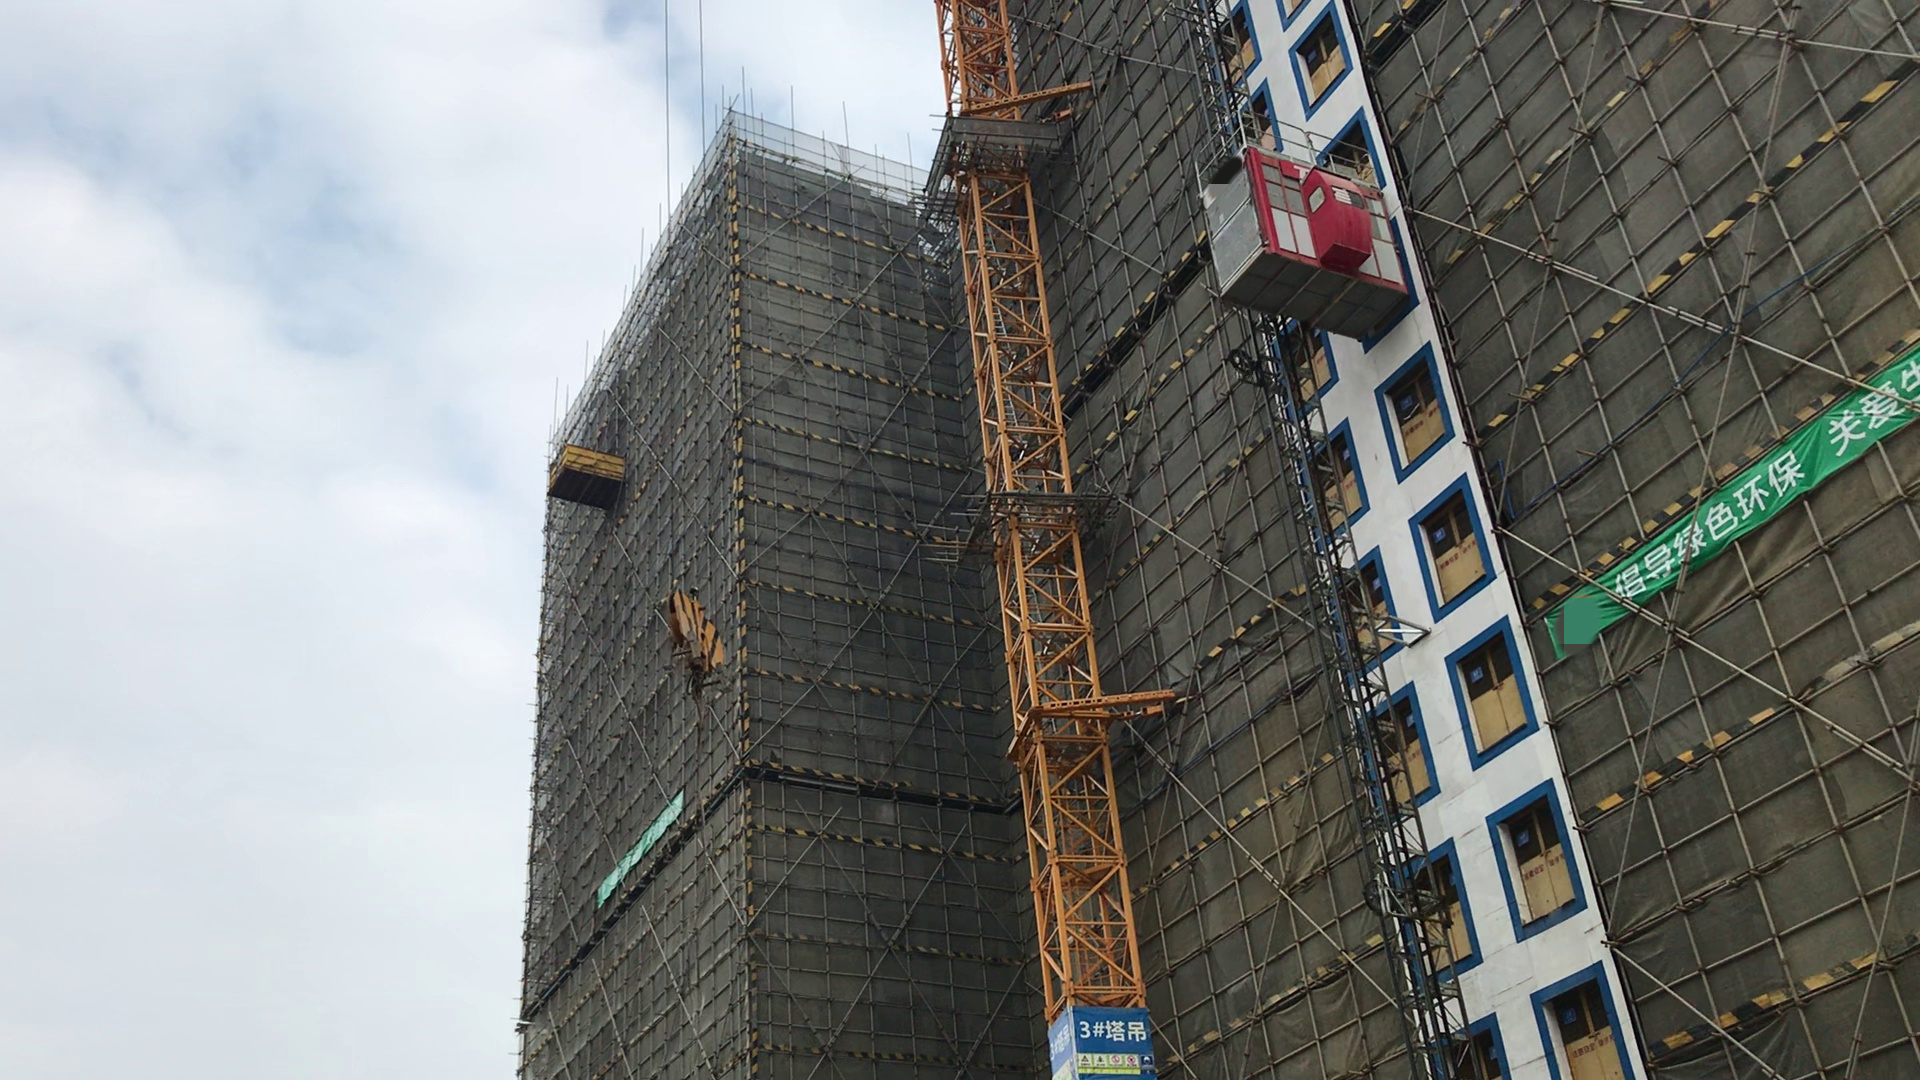hook: (663, 567, 735, 690)
slogan: (1571, 369, 1920, 653), (593, 798, 694, 905), (1075, 1007, 1155, 1073)
